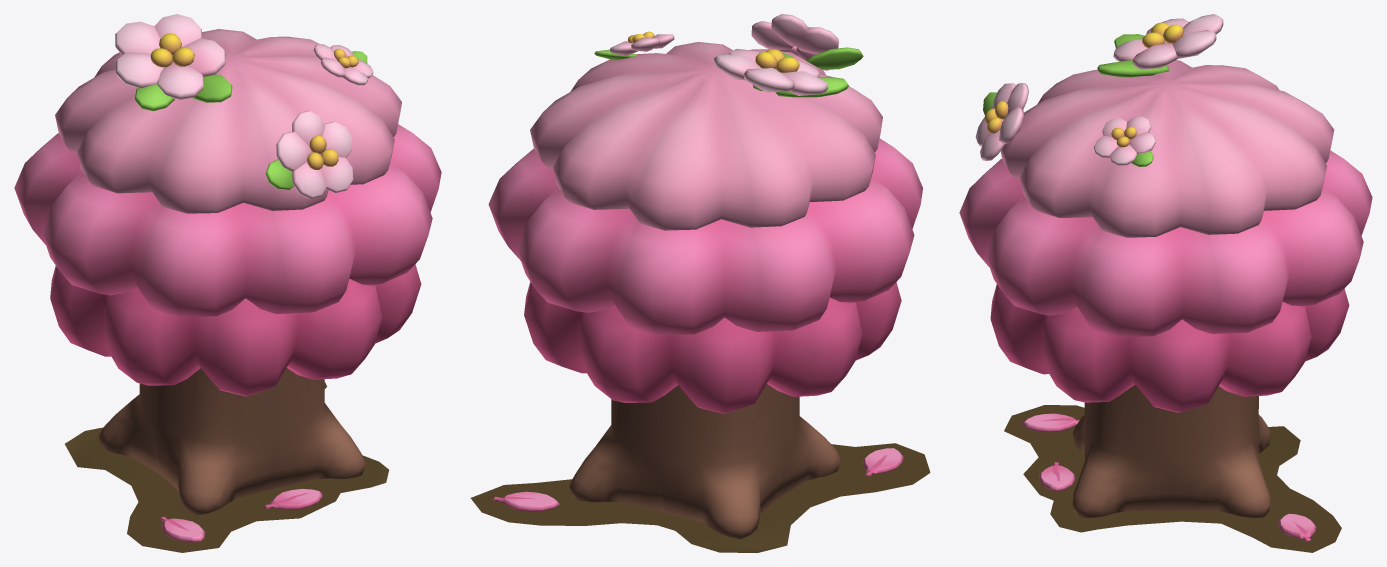
Rendered from Sakura01.fbx.
3 renders of one model, left to right at view 1: azimuth 30°, elevation 25°; view 2: azimuth 150°, elevation 25°; view 3: azimuth 270°, elevation 25°, orthographic. The views are drawn at different scales.
Visible parts, largest first — view 1: polySurface36, polySurface7, polySurface1, polySurface11; view 2: polySurface36, polySurface7, polySurface1, polySurface11; view 3: polySurface36, polySurface7, polySurface1, polySurface11.
Part boxes in pixels (<box>): polySurface36: <box>14,14,441,396</box>; polySurface7: <box>98,367,365,514</box>; polySurface1: <box>65,382,388,552</box>; polySurface11: <box>160,489,322,542</box>; polySurface36: <box>488,14,922,413</box>; polySurface7: <box>569,383,841,539</box>; polySurface1: <box>470,443,930,552</box>; polySurface11: <box>492,448,903,511</box>; polySurface36: <box>959,14,1372,412</box>; polySurface7: <box>1072,384,1270,517</box>; polySurface1: <box>1004,405,1341,552</box>; polySurface11: <box>1021,413,1316,541</box>.
Bounding box in the file's own units: 299 × 344 × 299.
